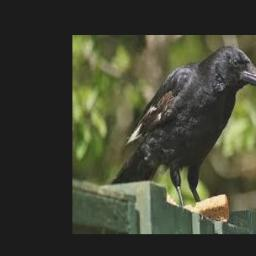Crow: (108, 45, 256, 211)
